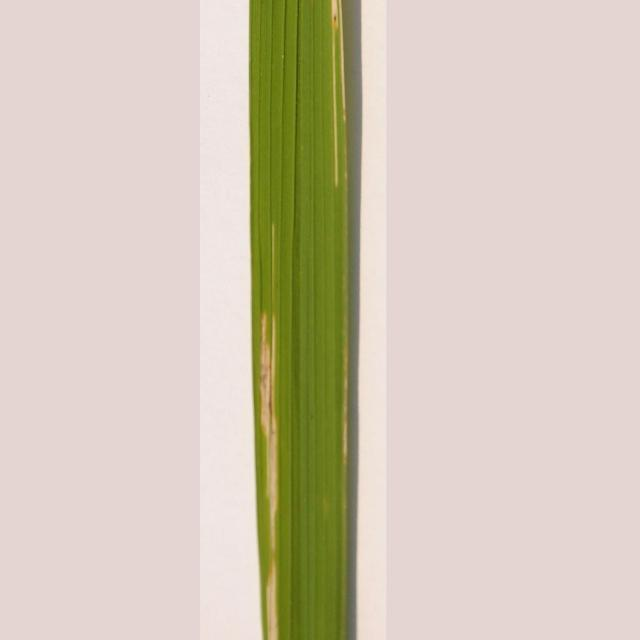leaf blight: (255, 301, 301, 638), (325, 1, 354, 215)
